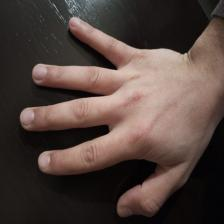five: (19, 12, 195, 218)
